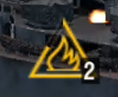2fire: (26, 47, 101, 84)
